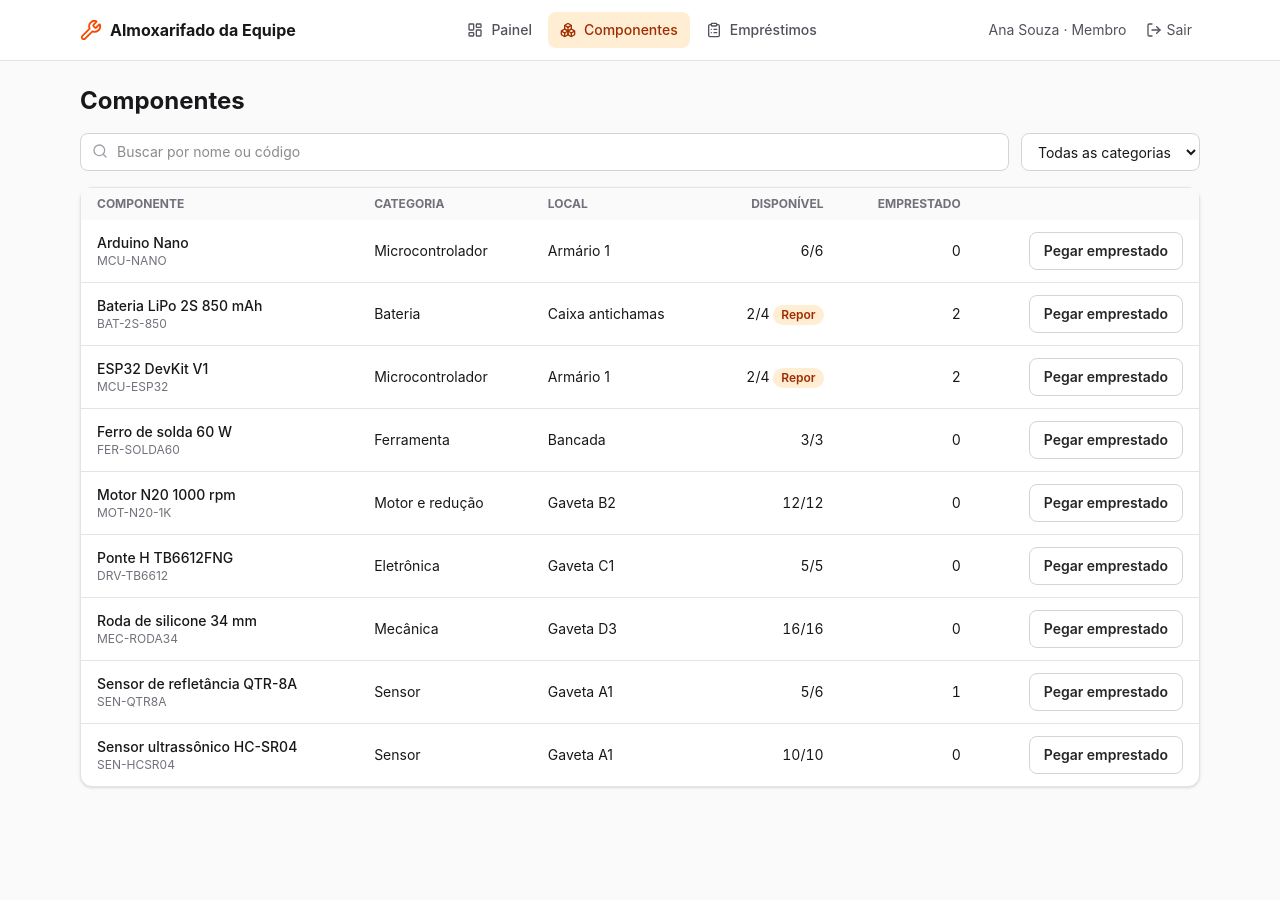
componentes › pegar emprestado atualiza o disponível
This screenshot has width=1280, height=900.
Check: the text "Motor N20 1000 rpm" is shown, box 97,486 -> 236,503
Check: the text "12/12" is shown, box 709,472 -> 840,534
Click the button "Pegar emprestado" in the row of "Motor N20 1000 rpm". click: (1106, 503)
box: 1029,484 -> 1183,522
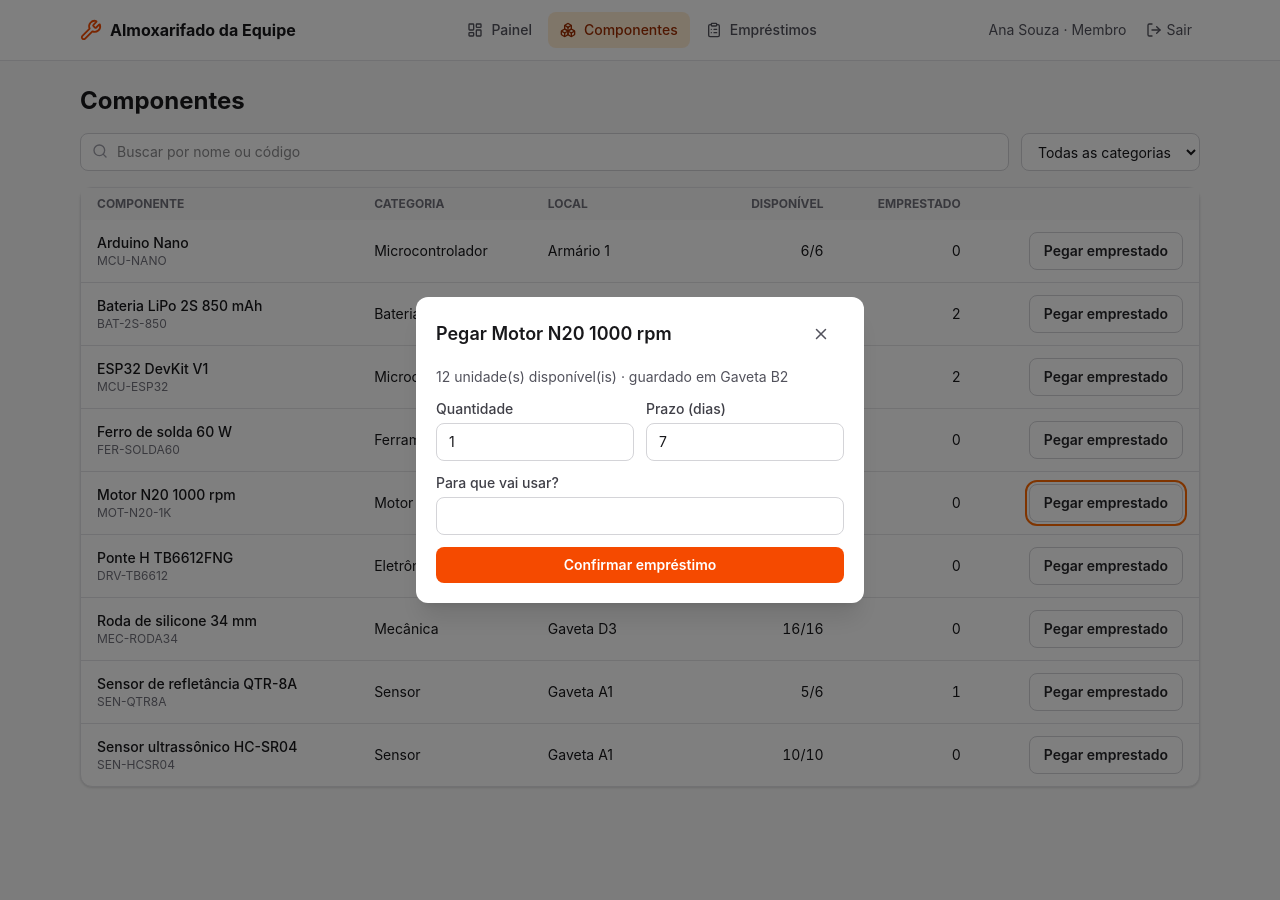
Replace the text in the number field labelled "Quantidade" with "4". click: (535, 442)
box: 436,423 -> 634,461
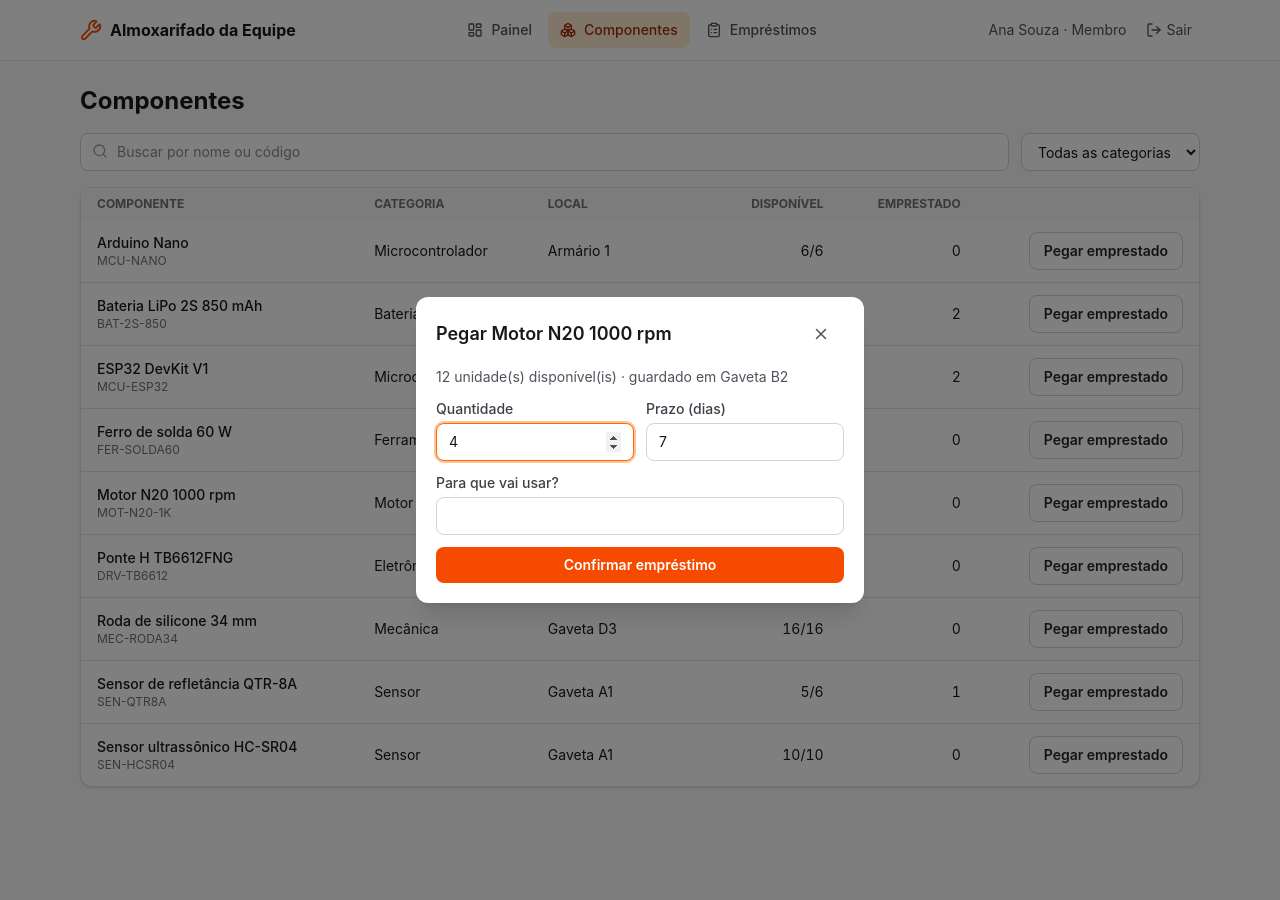
Type "Robô de sumô novo" into the field labelled "Para que vai usar?". click: (640, 516)
box: 436,497 -> 844,535
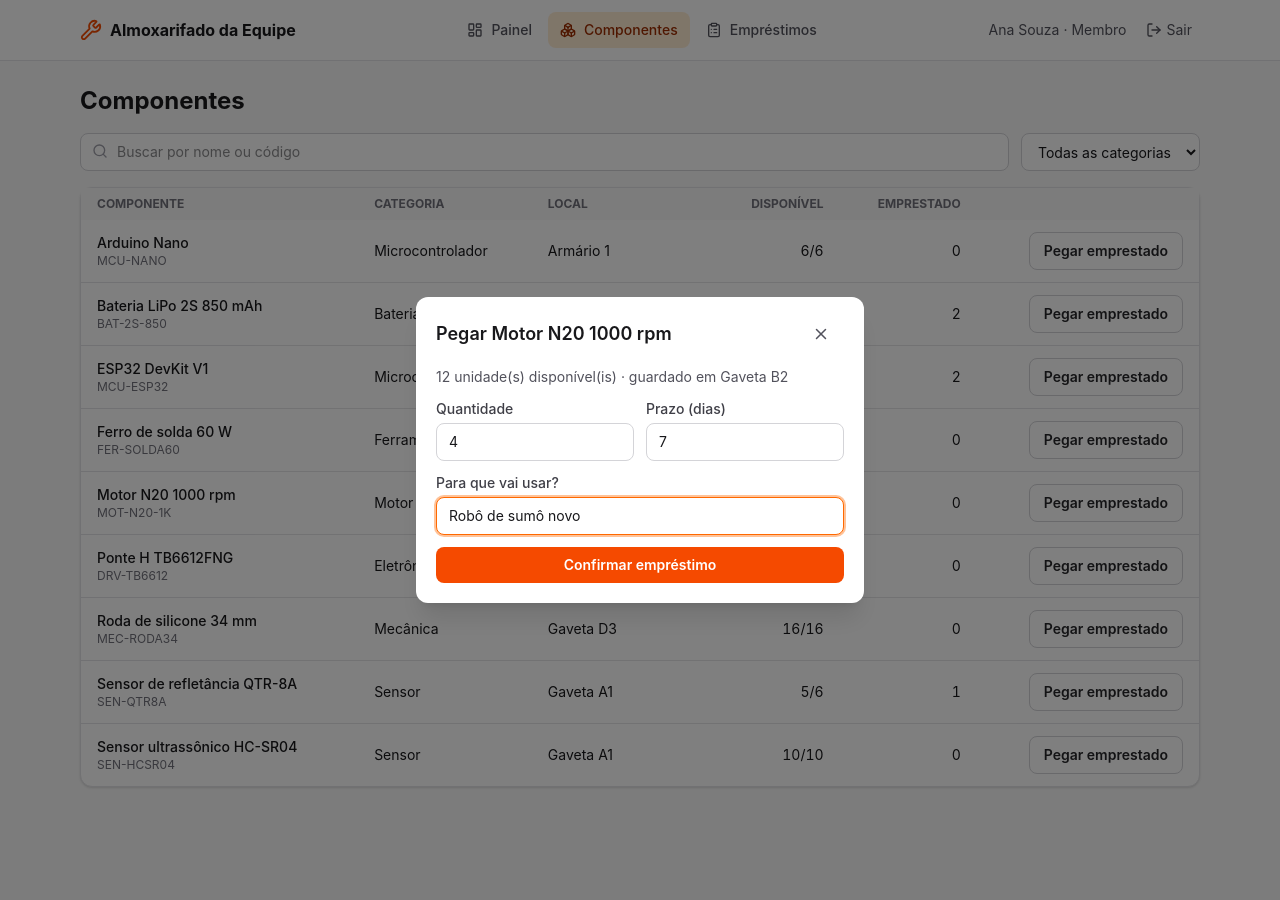
Click the button "Confirmar empréstimo". click: (640, 565)
box: 436,547 -> 844,583
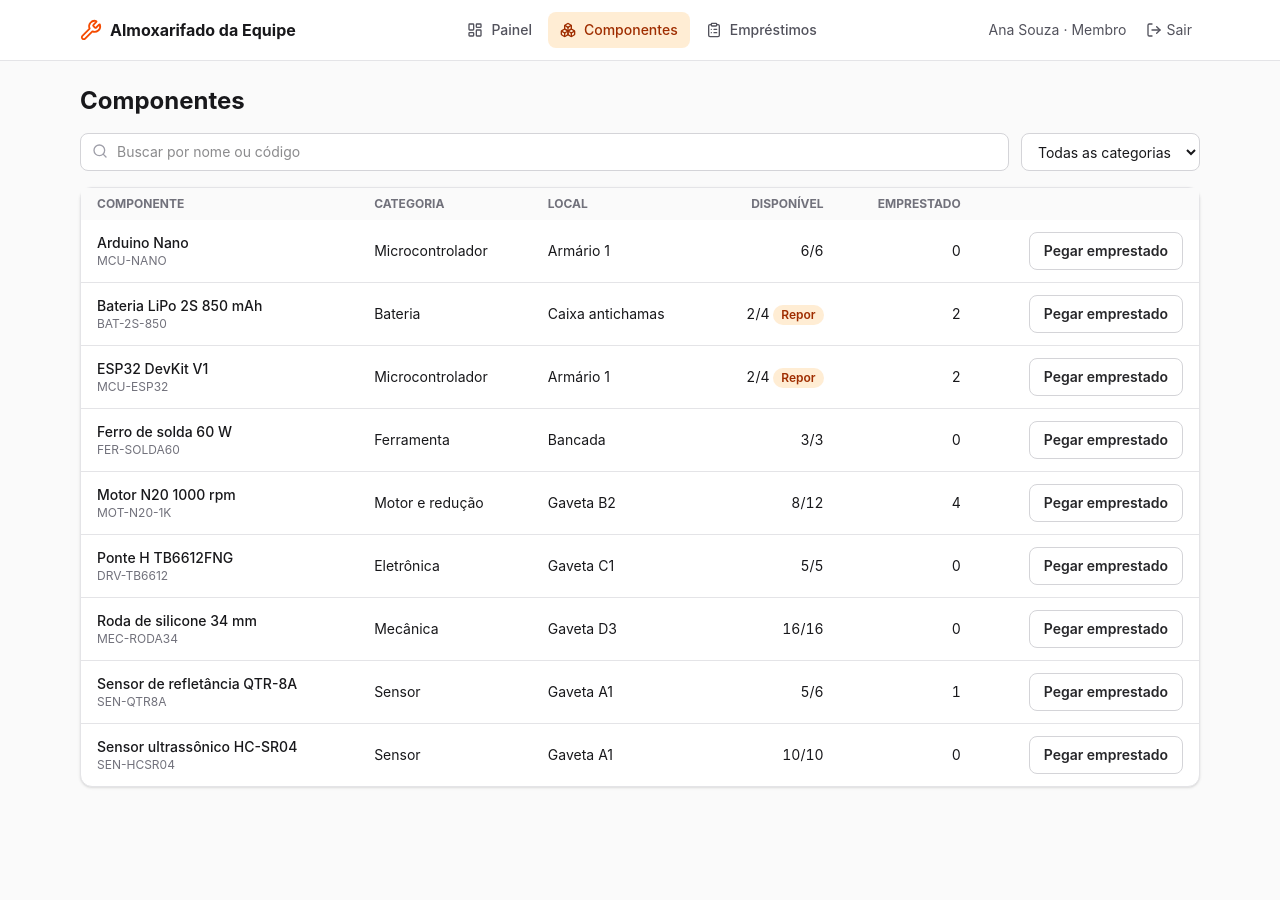
Check: the text "8/12" is shown, box 709,472 -> 840,534
